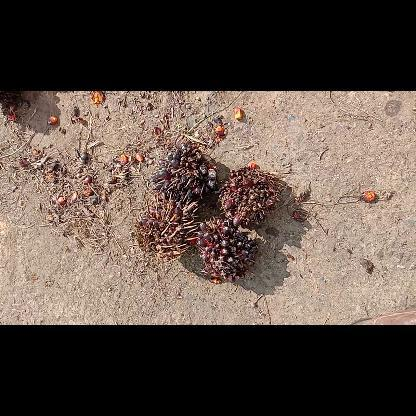TBS abnormal: (196, 216, 258, 282), (138, 194, 197, 260), (152, 142, 214, 202), (218, 166, 282, 224)
